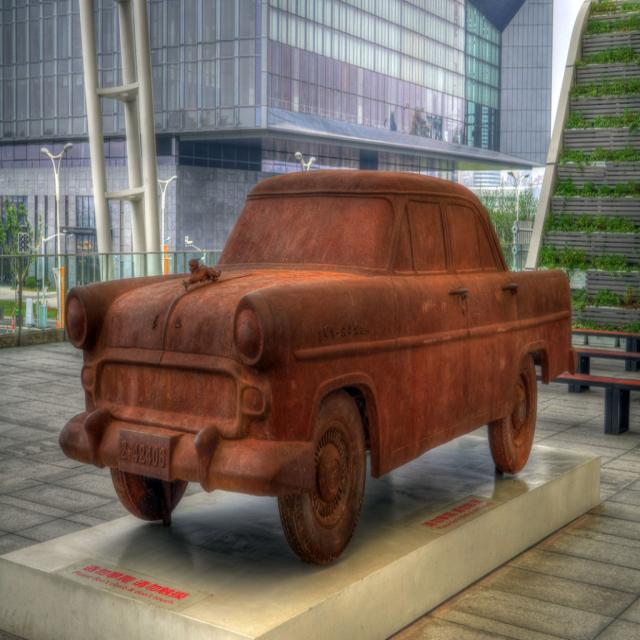car: (53, 164, 576, 566)
